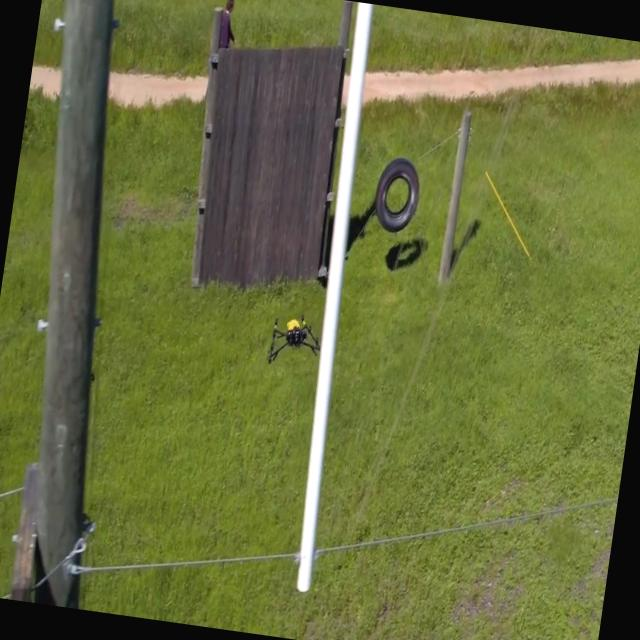drone: (268, 308, 326, 370)
